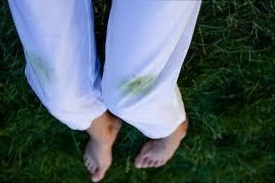earth: (124, 80, 149, 93), (33, 59, 48, 78)
